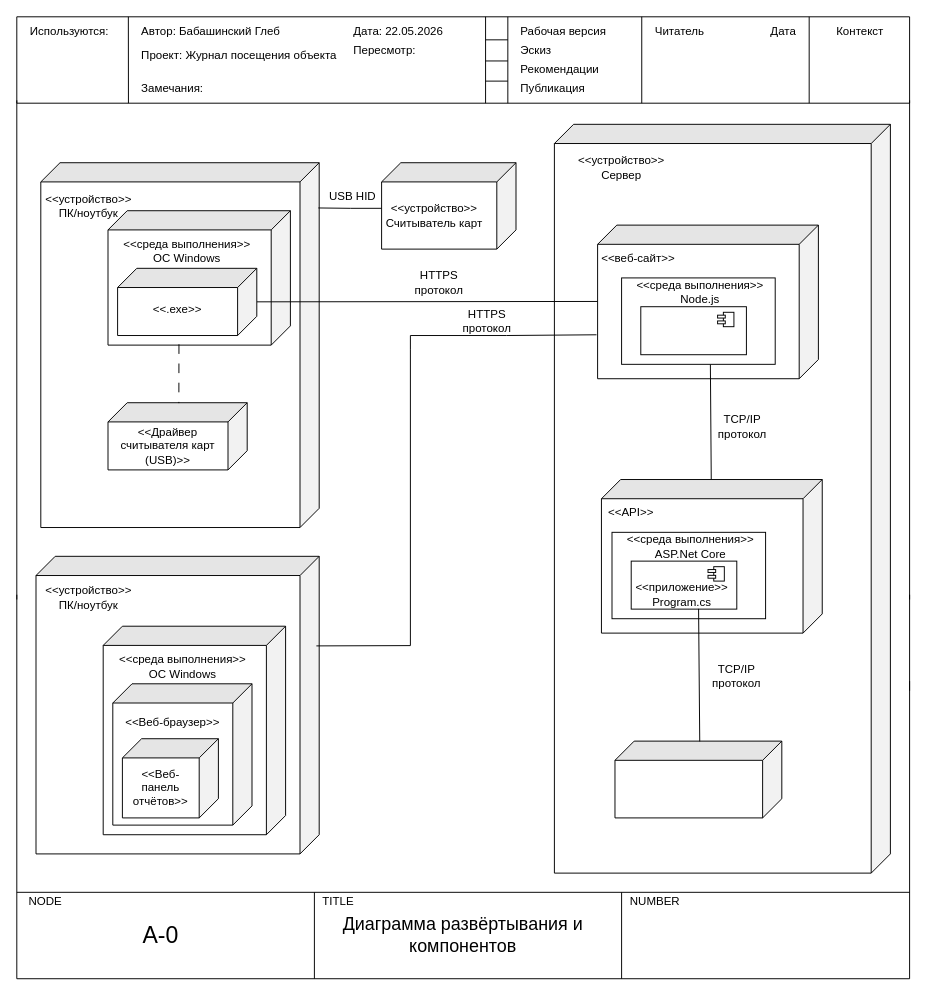
The diagram is 927 pixels wide and 996 high, and some of its shapes have lost their labels. The shapes that lost their labels are listed below. From the top down, each one's box as (x1, y1, x2, y2) in pixels, then its label:
(640, 306, 746, 355): <<приложение>> index.js
(614, 740, 782, 818): <<среда выполнения>> MS SQL SERVER
